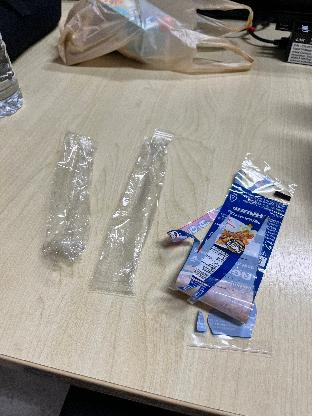Others: (167, 146, 305, 366), (93, 118, 181, 304), (40, 122, 102, 266)
